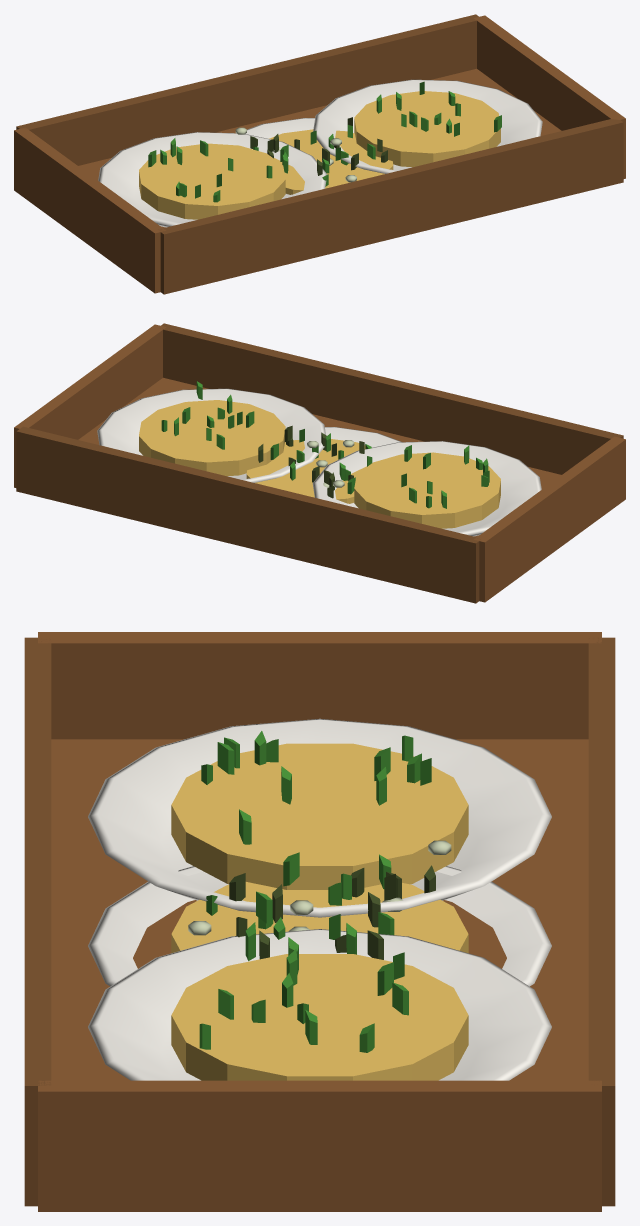
File: Veg_Pancake.fbx
3 renders of one model, top to bottom at view 1: azimuth 30°, elevation 25°; view 2: azimuth 150°, elevation 25°; view 3: azimuth 270°, elevation 25°, orthographic. The views are drawn at different scales.
Visible parts, largest first — view 1: Veg_Pancake__Stack, Veg_Pancake, Veg_Pancake__Rotten; view 2: Veg_Pancake__Stack, Veg_Pancake, Veg_Pancake__Rotten; view 3: Veg_Pancake__Stack, Veg_Pancake, Veg_Pancake__Rotten.
Part boxes in pixels (x1,y1,x2,y2): Veg_Pancake__Stack: [14, 14, 625, 294]; Veg_Pancake: [245, 118, 393, 194]; Veg_Pancake__Rotten: [235, 117, 387, 182]; Veg_Pancake__Stack: [14, 323, 625, 603]; Veg_Pancake: [246, 427, 402, 503]; Veg_Pancake__Rotten: [258, 425, 364, 498]; Veg_Pancake__Stack: [24, 632, 615, 1211]; Veg_Pancake: [88, 852, 551, 986]; Veg_Pancake__Rotten: [188, 840, 451, 959].
Bounding box in the file's own units: 0.328 × 0.04 × 0.178.
